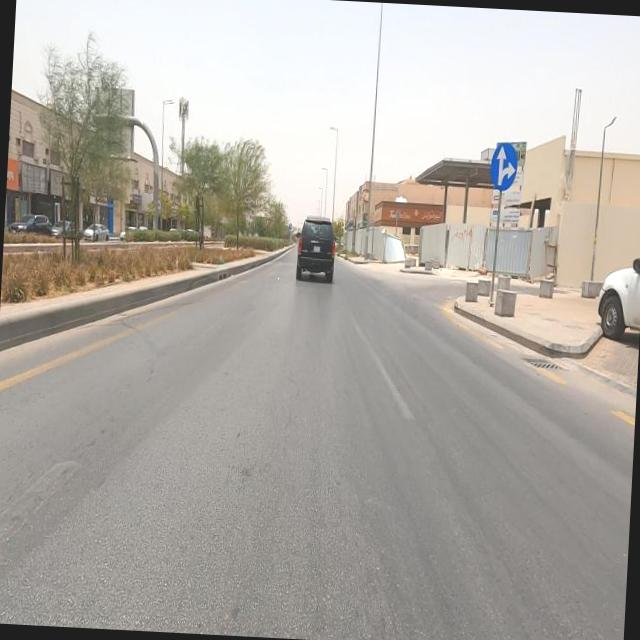debris: (4, 122, 68, 237), (30, 138, 97, 232)
